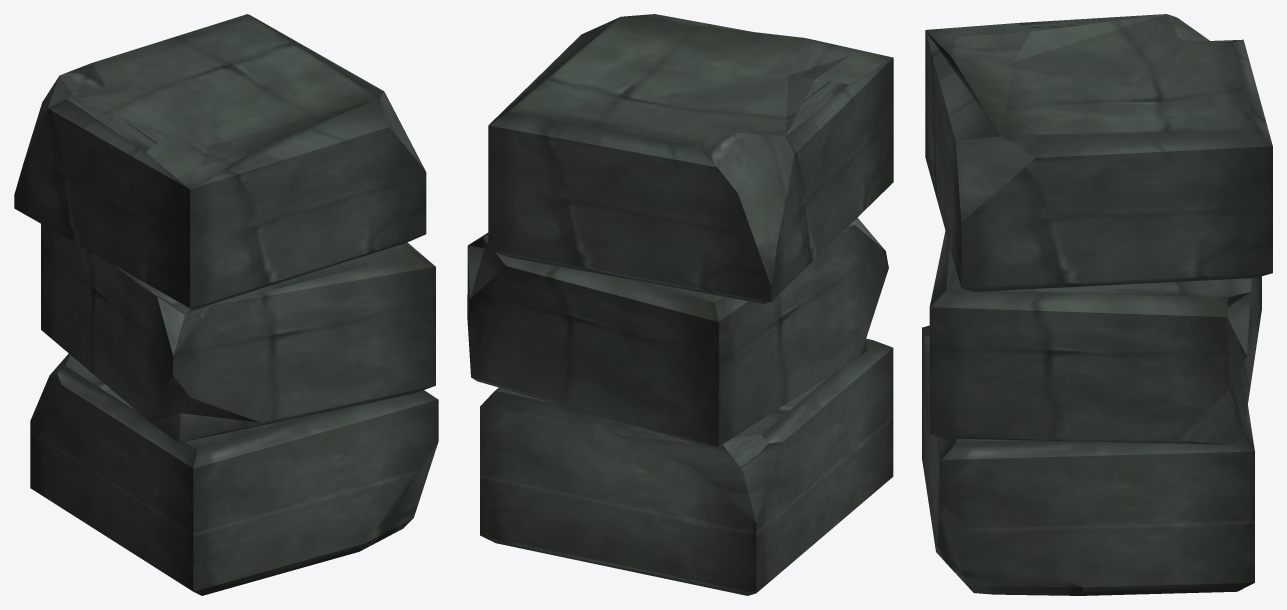
The model's file is pillar_type012.FBX.
3 views of the same model, side by side, from view 1: azimuth 30°, elevation 25°; view 2: azimuth 150°, elevation 25°; view 3: azimuth 270°, elevation 25° (orthographic). The views are drawn at different scales.
Parts seen in each view (by area): view 1: pillar_type012; view 2: pillar_type012; view 3: pillar_type012.
Boxes of the visible parts, <box> form: pillar_type012: <box>14,14,438,595</box>; pillar_type012: <box>467,14,893,595</box>; pillar_type012: <box>922,14,1272,595</box>.
Size of the model in its own units: 231 by 317 by 224.
